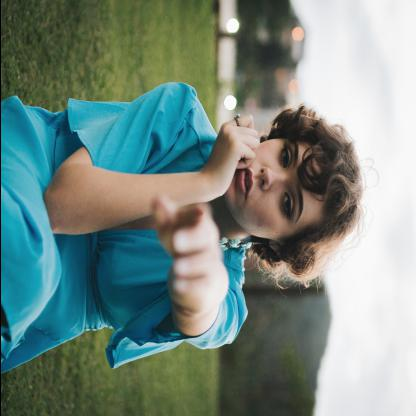Eye: (277, 185, 297, 221), (276, 139, 294, 173)
Mouth: (236, 166, 254, 200)
Nose: (256, 166, 290, 192)
